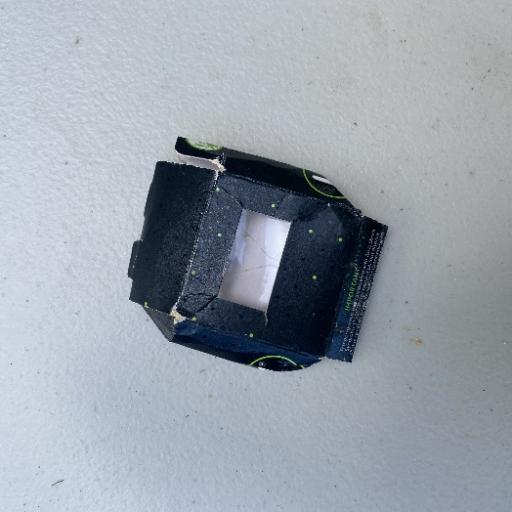Cardboard: (125, 134, 390, 372)
